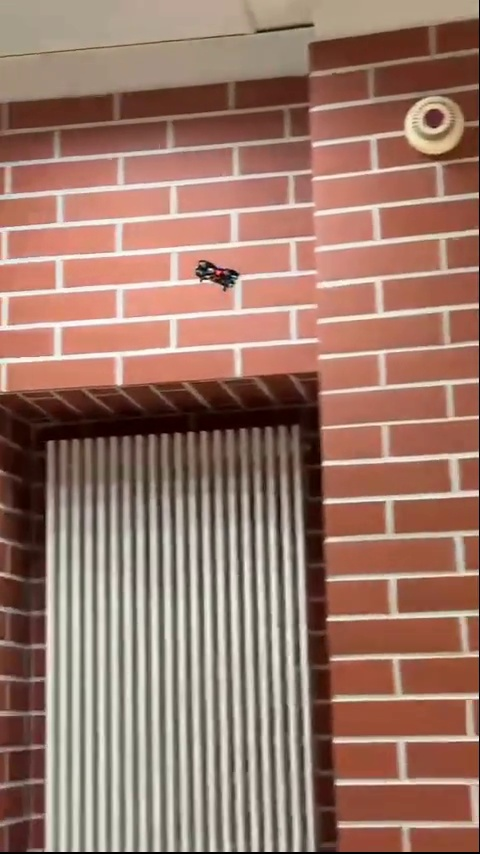drone: (196, 262, 243, 289)
